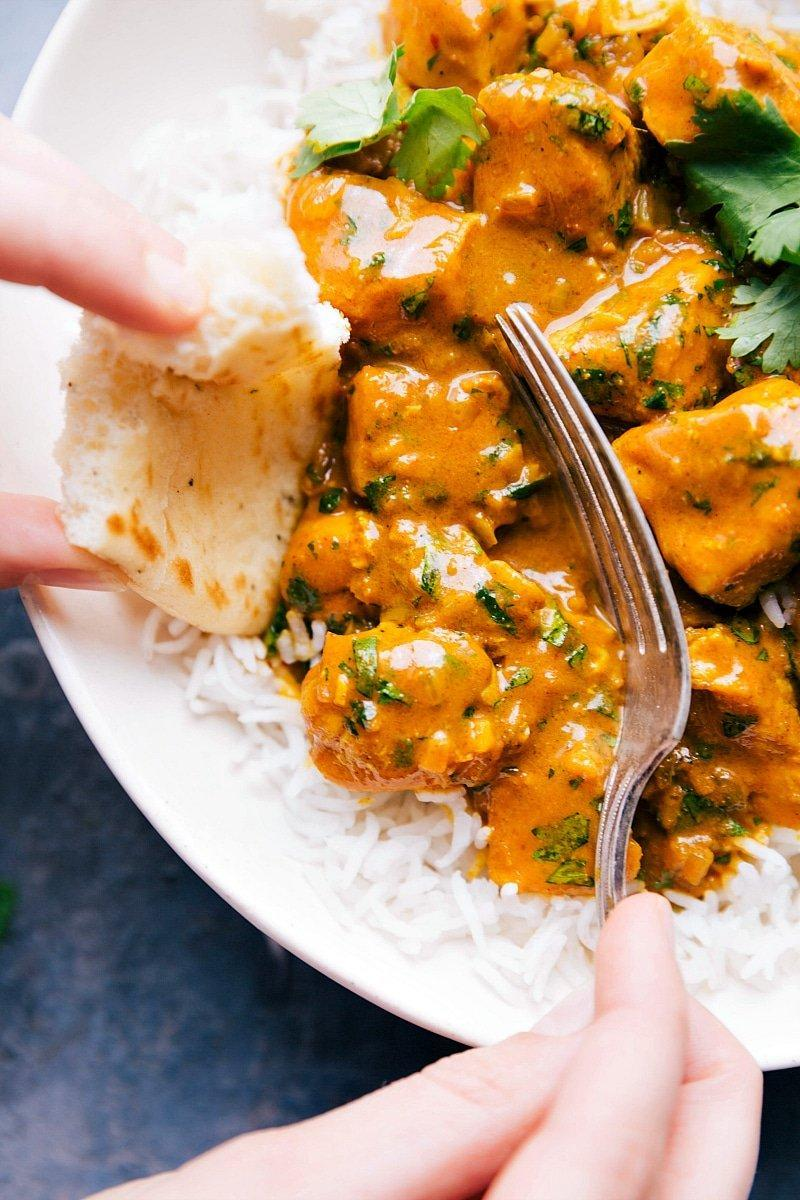chicken: (370, 35, 800, 846)
